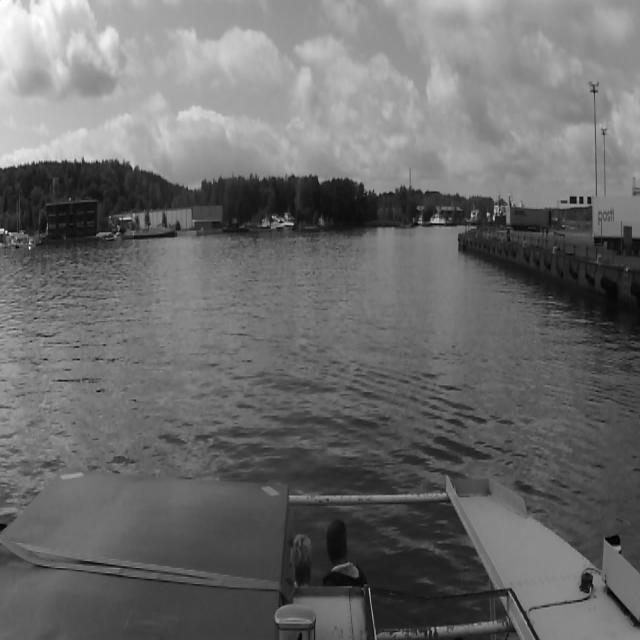ship: (270, 215, 294, 230), (318, 214, 336, 230), (270, 221, 284, 234)
